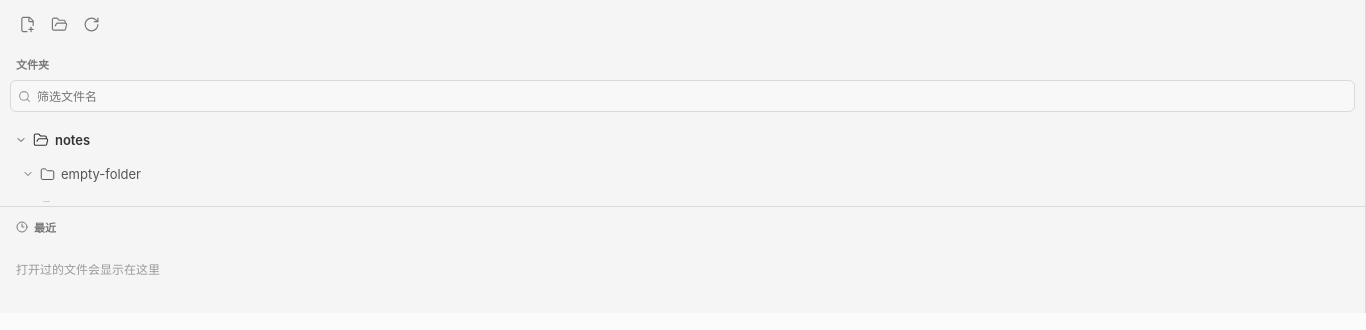
Scenario: WorkspaceSidebar › offers new folder from the root context menu
Later steps or results of the test are not shown.
Right-click the button titled "/notes": (73, 140) [8,122,1357,157]
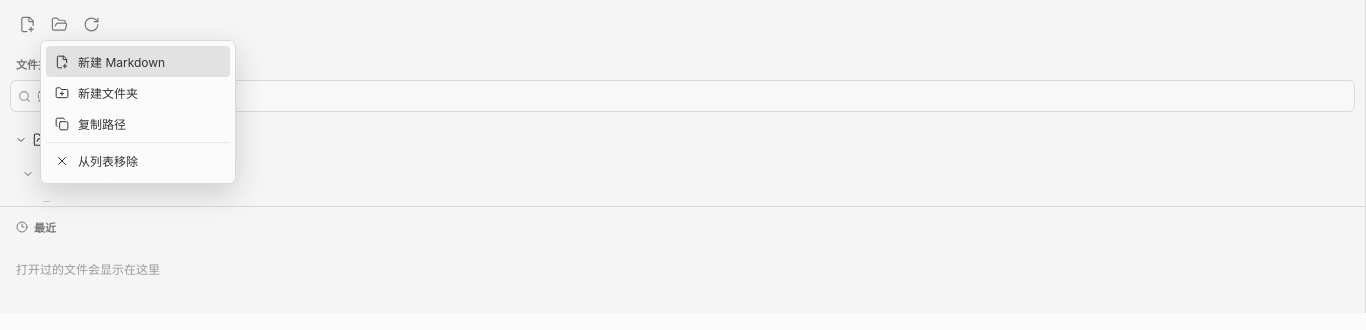
Result: the menu item "新建文件夹" is shown at [46,77,230,108]
